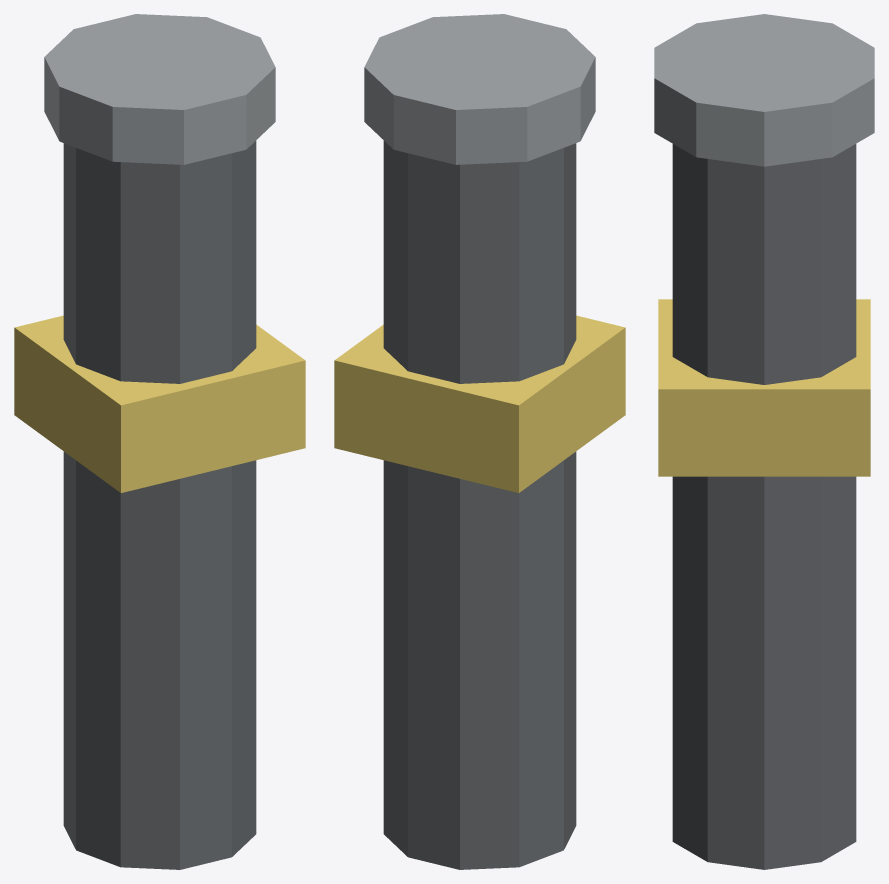
File: bollard_04.glb
The picture shows the model from 3 angles, left to right: view 1: azimuth 30°, elevation 25°; view 2: azimuth 150°, elevation 25°; view 3: azimuth 270°, elevation 25°; orthographic projection.
Parts seen in each view (by area): view 1: post, stripe, cap; view 2: post, stripe, cap; view 3: post, cap, stripe.
Boxes of the visible parts, x1,y1,x2,y2 form: post: (63,140,256,869); stripe: (14,315,305,492); cap: (44,14,275,164); post: (383,140,576,869); stripe: (334,315,625,492); cap: (364,14,595,164); post: (672,144,856,869); cap: (654,14,874,166); stripe: (658,299,870,476).
Size of the model in its own units: 0.192 by 0.7 by 0.1826.
